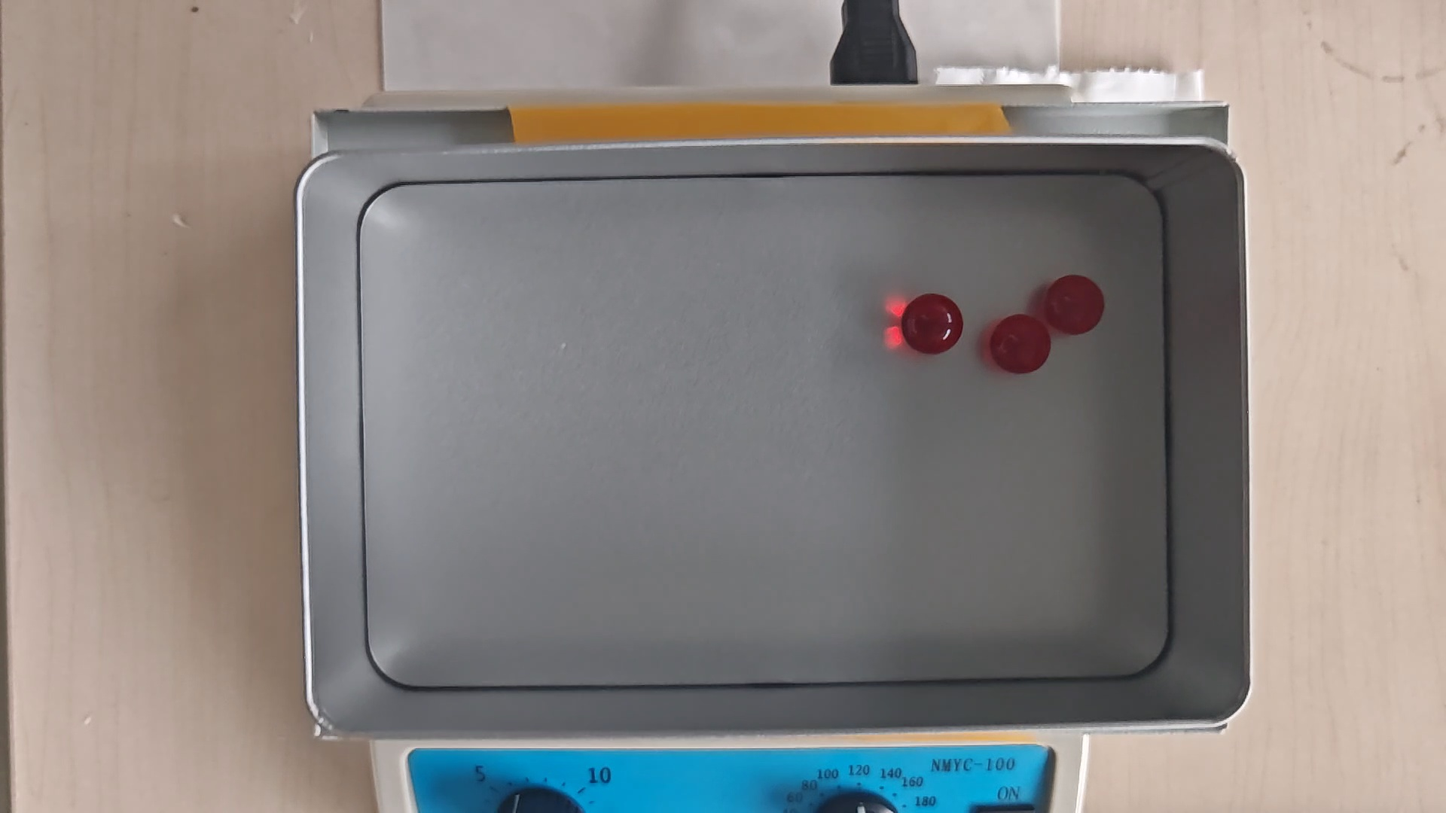ball: (1046, 274, 1105, 336), (904, 294, 961, 355), (994, 313, 1051, 372)
container: (355, 177, 1174, 681)
